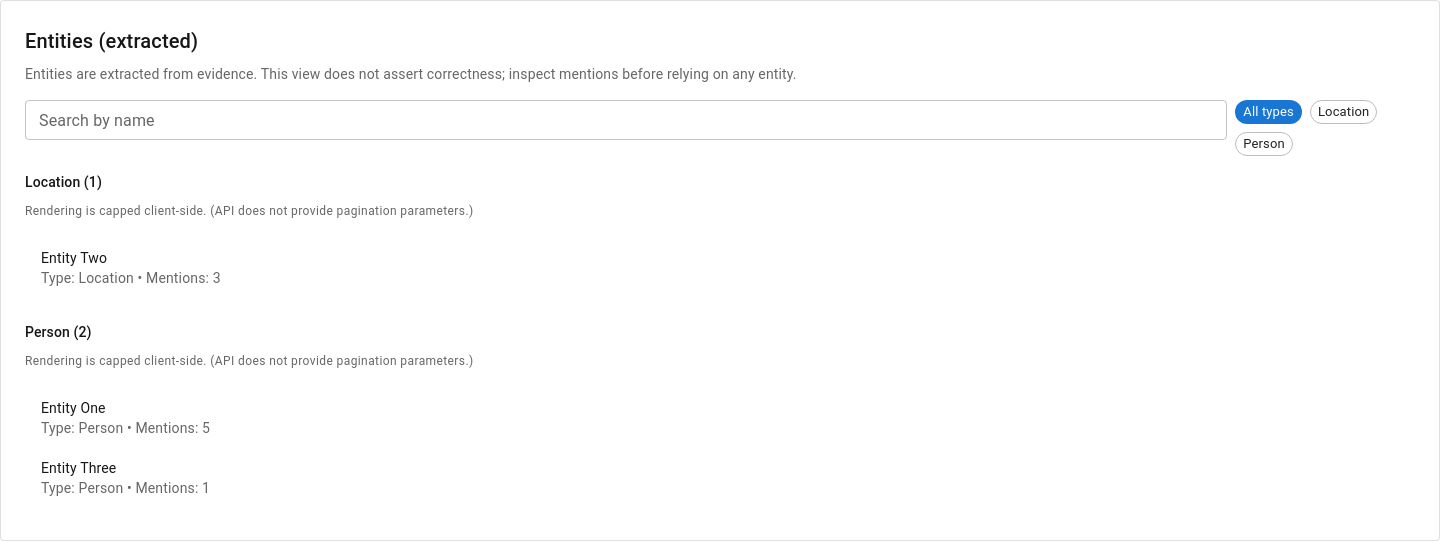
Test: EntityList › shows info when no entities match filters
The image size is (1440, 558).
Type "Nonexistent" into the field labelled "Search by name" at (626, 120), box left=25, top=100, right=1227, bottom=140
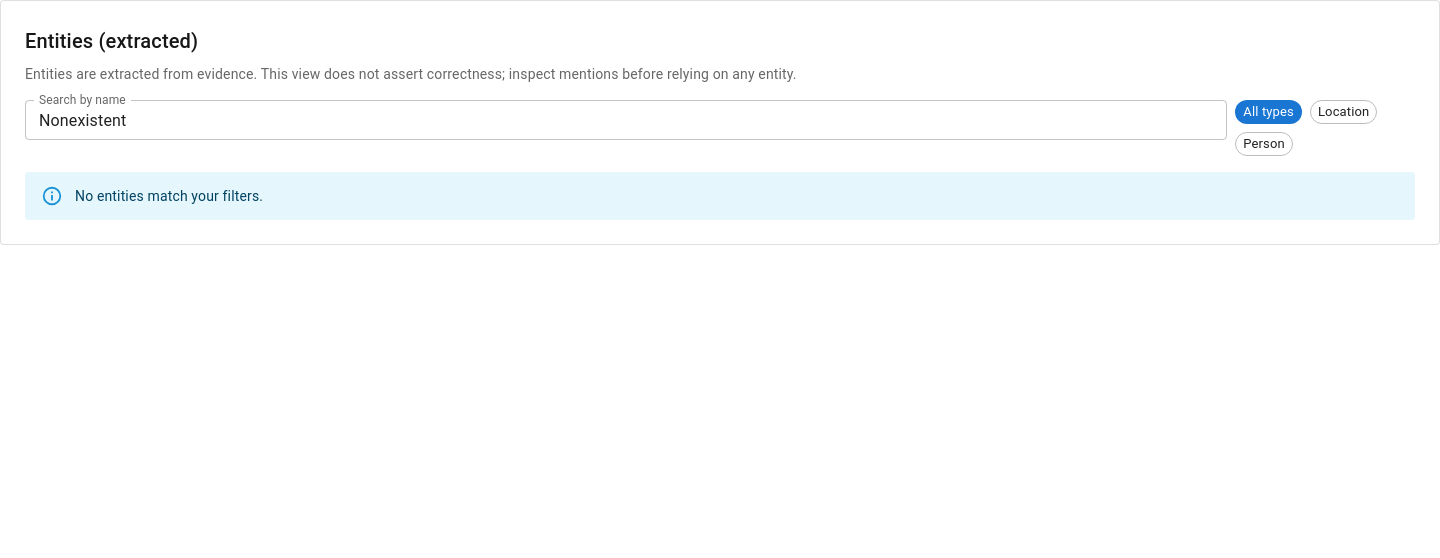
Expected: the text "No entities match your filters." is shown, left=75, top=188, right=263, bottom=204
